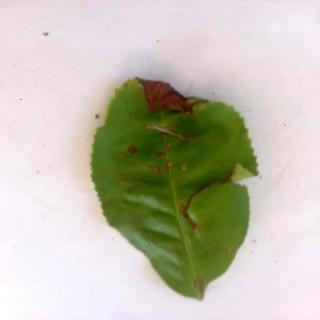Brown Blight: (90, 77, 259, 301)
